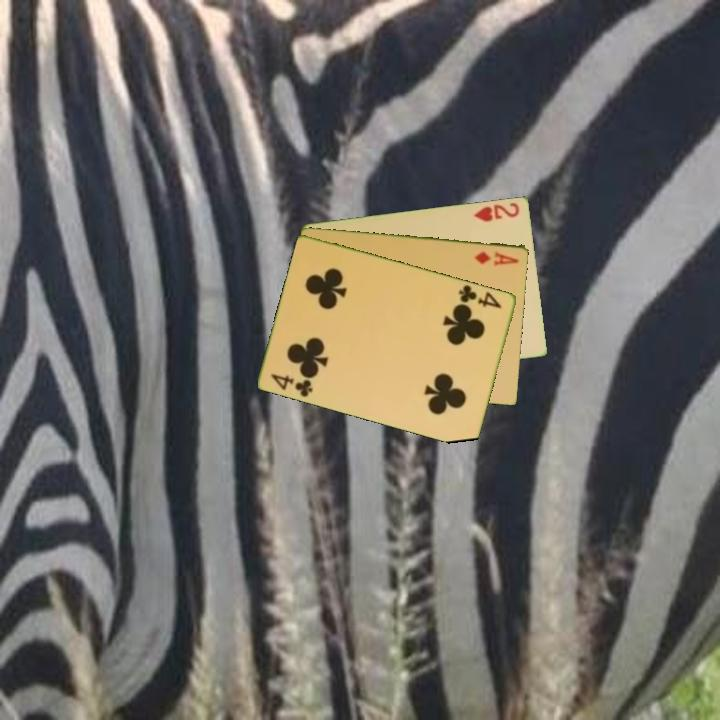2h: (471, 199, 522, 225)
4c: (456, 281, 505, 311), (268, 370, 316, 400)
Ad: (471, 247, 521, 268)
